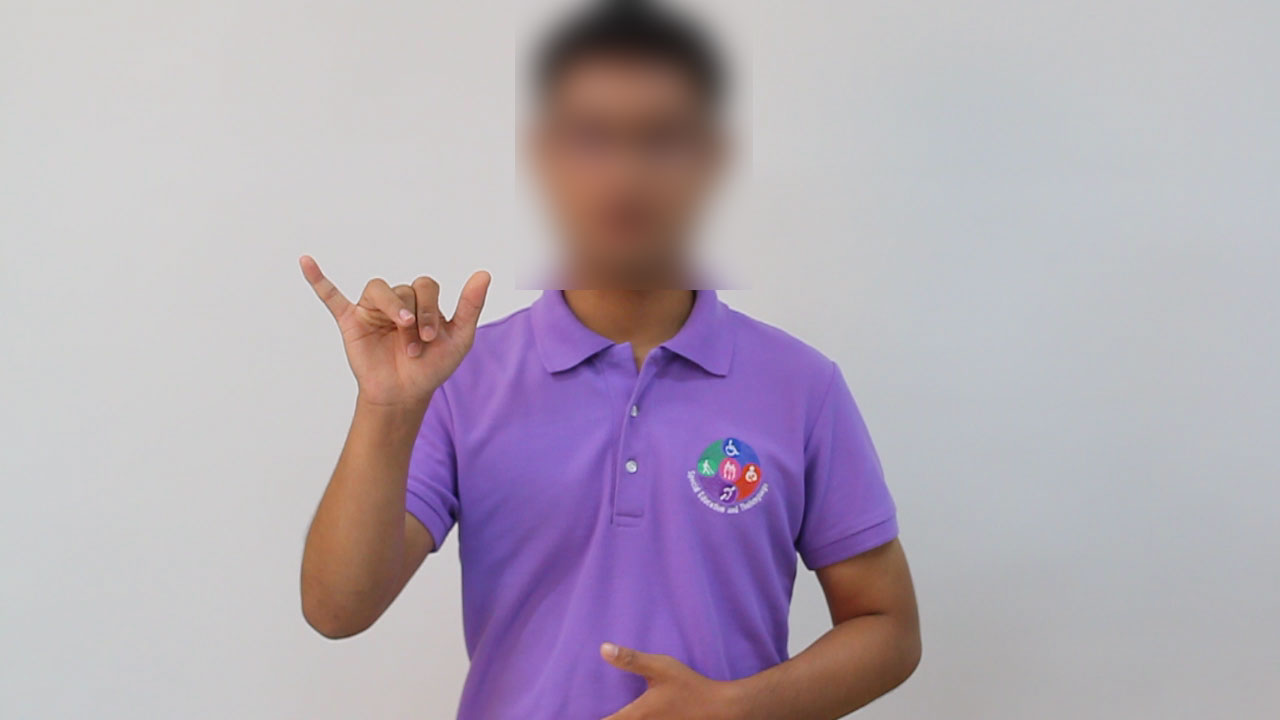yor: (287, 244, 505, 424)
